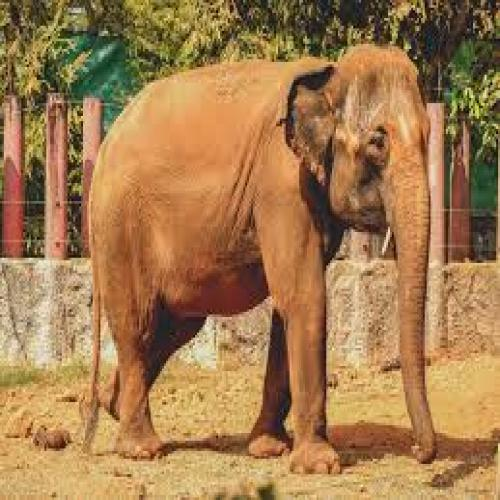asian_elephant-endangered: (75, 43, 440, 476)
